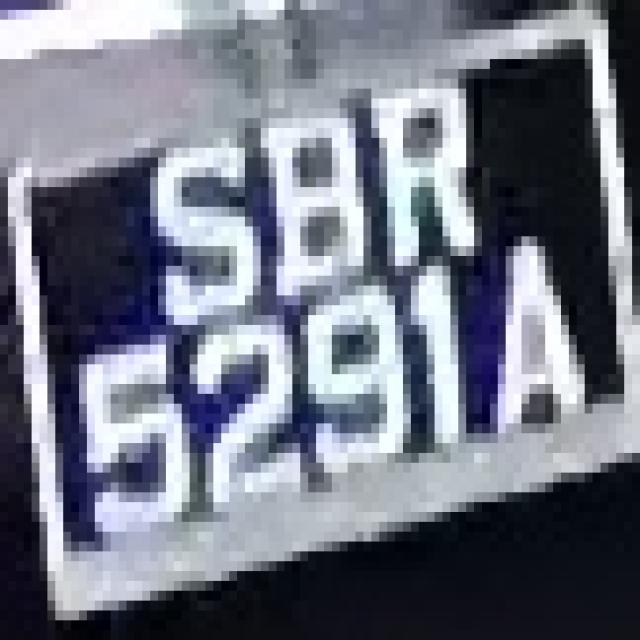1: (387, 266, 474, 482)
2: (190, 315, 324, 532)
5: (56, 325, 198, 581)
9: (284, 256, 419, 532)
A: (466, 246, 608, 483)
B: (237, 98, 371, 296)
R: (348, 49, 490, 256)
S: (142, 108, 269, 335)
